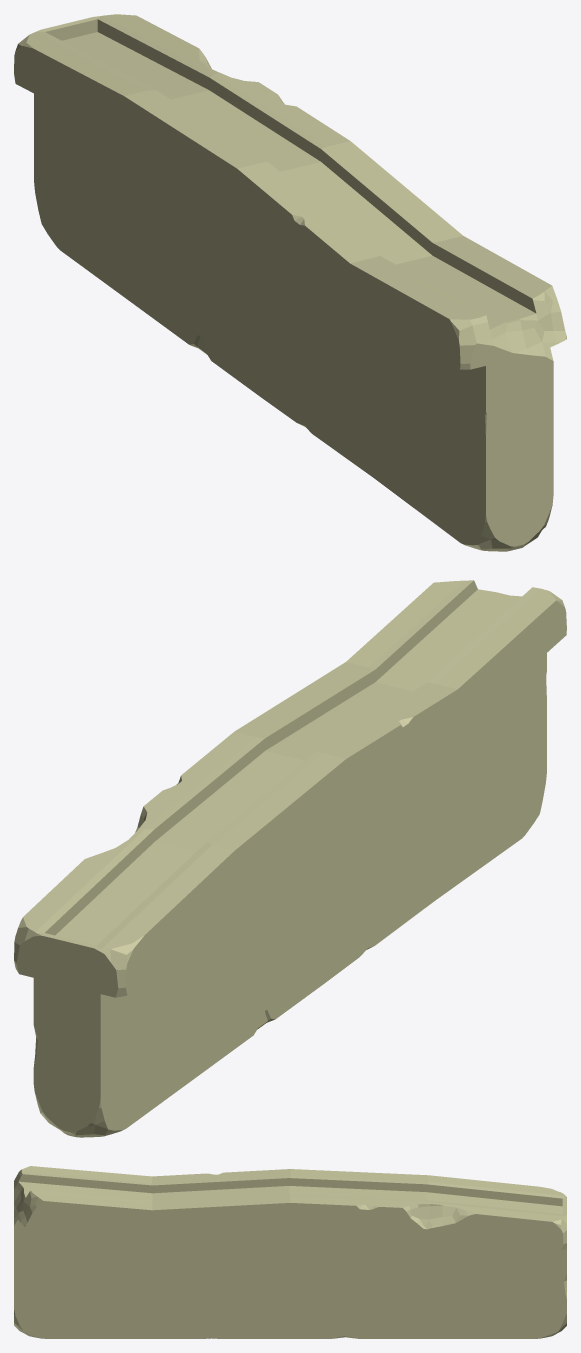
The model's file is Muralla3.fbx.
3 views of the same model, one above another, from view 1: azimuth 30°, elevation 25°; view 2: azimuth 150°, elevation 25°; view 3: azimuth 270°, elevation 25° (orthographic). The views are drawn at different scales.
Parts seen in each view (by area): view 1: Cube.003_dmg; view 2: Cube.003_dmg; view 3: Cube.003_dmg.
Boxes of the visible parts, box(x1,y1,x2,y2) form: Cube.003_dmg: box(14, 14, 566, 551); Cube.003_dmg: box(14, 580, 566, 1137); Cube.003_dmg: box(14, 1166, 566, 1338).
Size of the model in its own units: 531 by 1073 by 3662.
